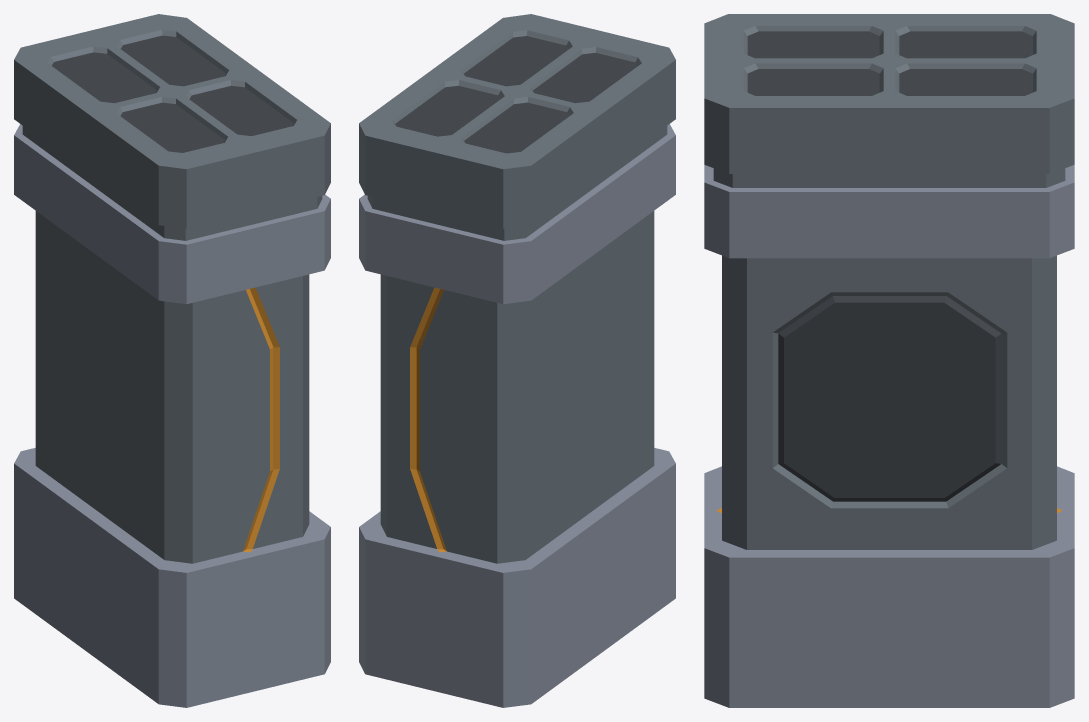
Rendered from SM_Dead-end_wall_ventilation.glb.
The picture shows the model from 3 angles, left to right: view 1: azimuth 30°, elevation 25°; view 2: azimuth 150°, elevation 25°; view 3: azimuth 270°, elevation 25°; orthographic projection. The views are drawn at different scales.
Visible parts, largest first — view 1: SM_Dead-end_wall_ventilation; view 2: SM_Dead-end_wall_ventilation; view 3: SM_Dead-end_wall_ventilation.
Boxes of the visible parts, bbox=[...] form: SM_Dead-end_wall_ventilation: bbox=[14, 14, 330, 707]; SM_Dead-end_wall_ventilation: bbox=[359, 14, 675, 707]; SM_Dead-end_wall_ventilation: bbox=[704, 14, 1074, 707].
Bounding box in the file's own units: 0.3 × 0.8946 × 0.5.
1 material, 1 textured.
